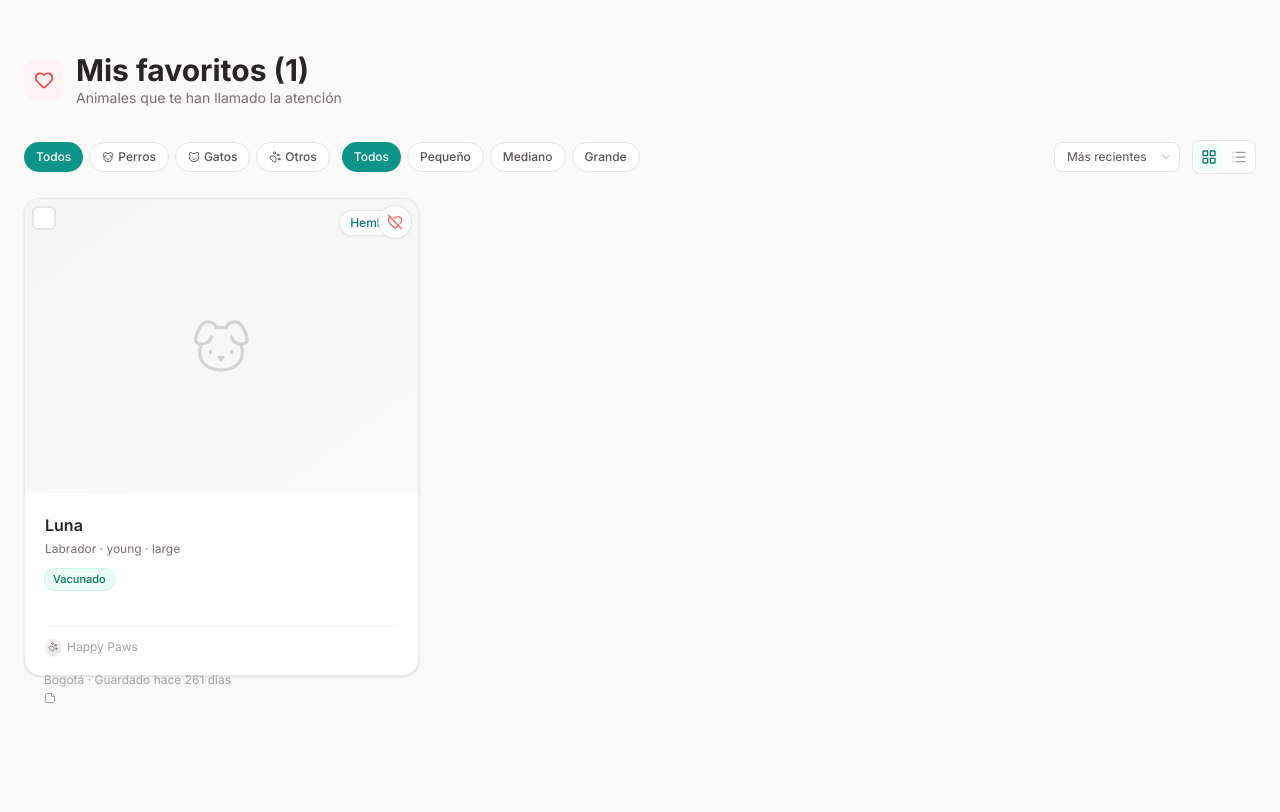
Test: FavoritosPage › opens note textarea when note toggle is clicked
Click the button with class "lucide-sticky-note" at (50, 698), box [44, 692, 56, 704]
(page scrolled)
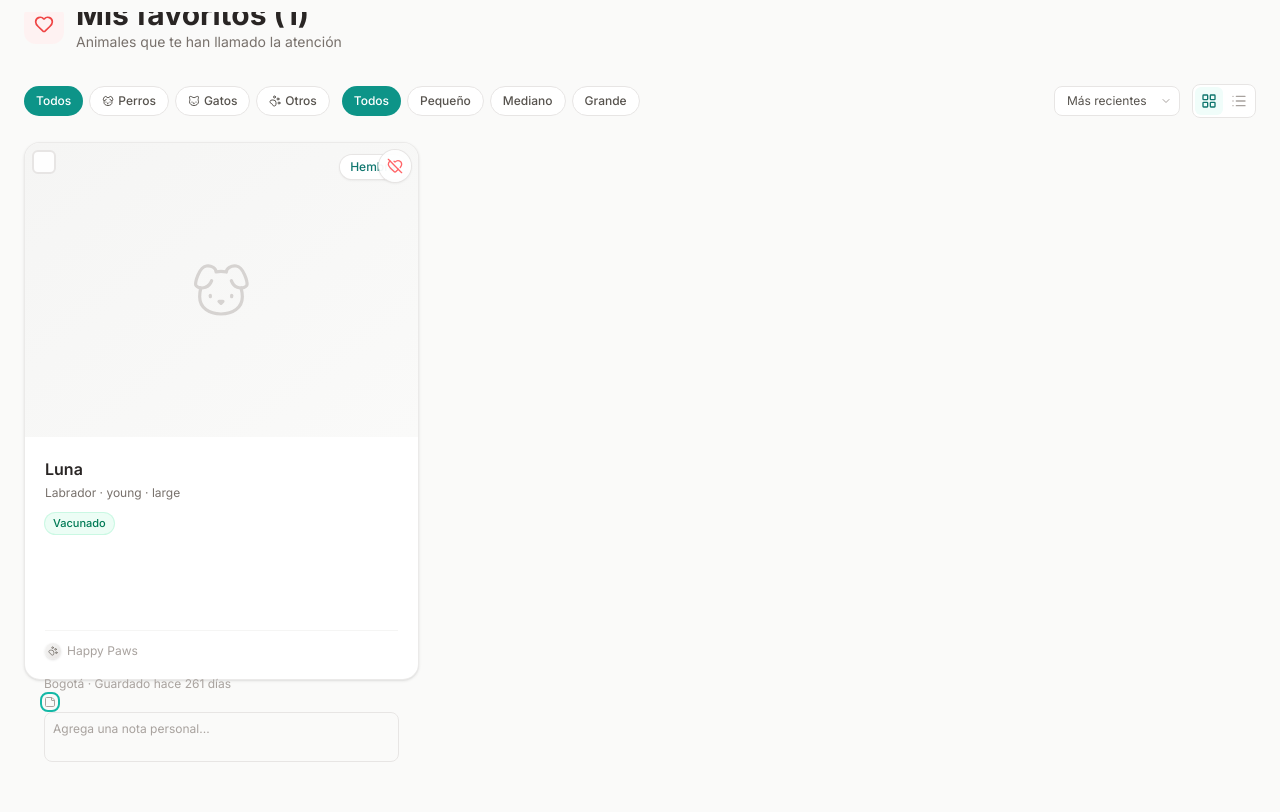
Now the text box with placeholder "Agrega una nota personal..." is shown, box [44, 712, 399, 762]
